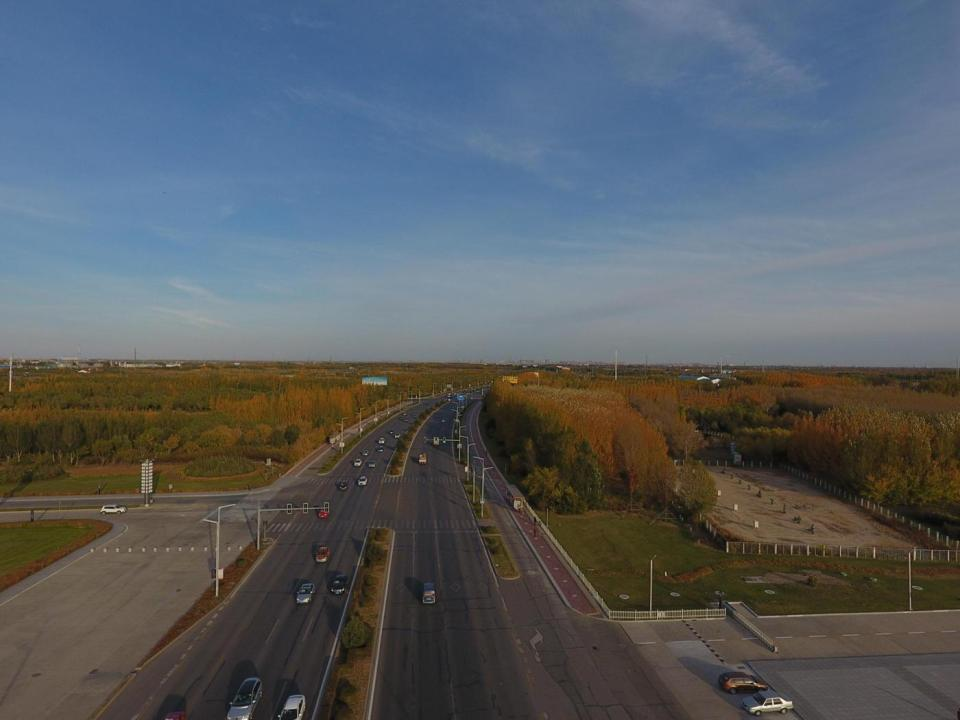car: (226, 676, 264, 720), (741, 690, 794, 716), (718, 671, 769, 694), (276, 693, 308, 720), (295, 583, 315, 605), (330, 573, 348, 595), (98, 504, 128, 515), (316, 545, 330, 564), (317, 506, 330, 518), (357, 475, 368, 486), (353, 458, 363, 467), (368, 460, 376, 468), (362, 449, 370, 456), (377, 445, 384, 452), (378, 437, 385, 444), (393, 432, 400, 438), (388, 429, 394, 434), (410, 412, 416, 416), (440, 418, 445, 422), (399, 415, 403, 420), (404, 417, 408, 422), (425, 401, 429, 405), (402, 412, 407, 415)
truck: (432, 436, 440, 447), (419, 452, 426, 463)
van: (421, 581, 436, 605), (339, 479, 349, 492)
